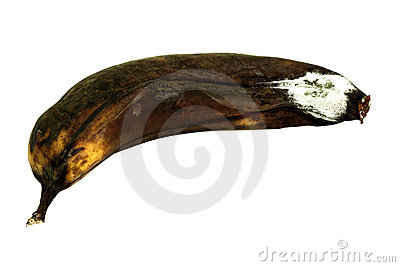rotten_banana: (25, 53, 370, 225)
